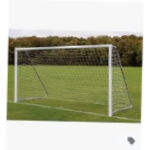goals: (14, 43, 134, 119)
